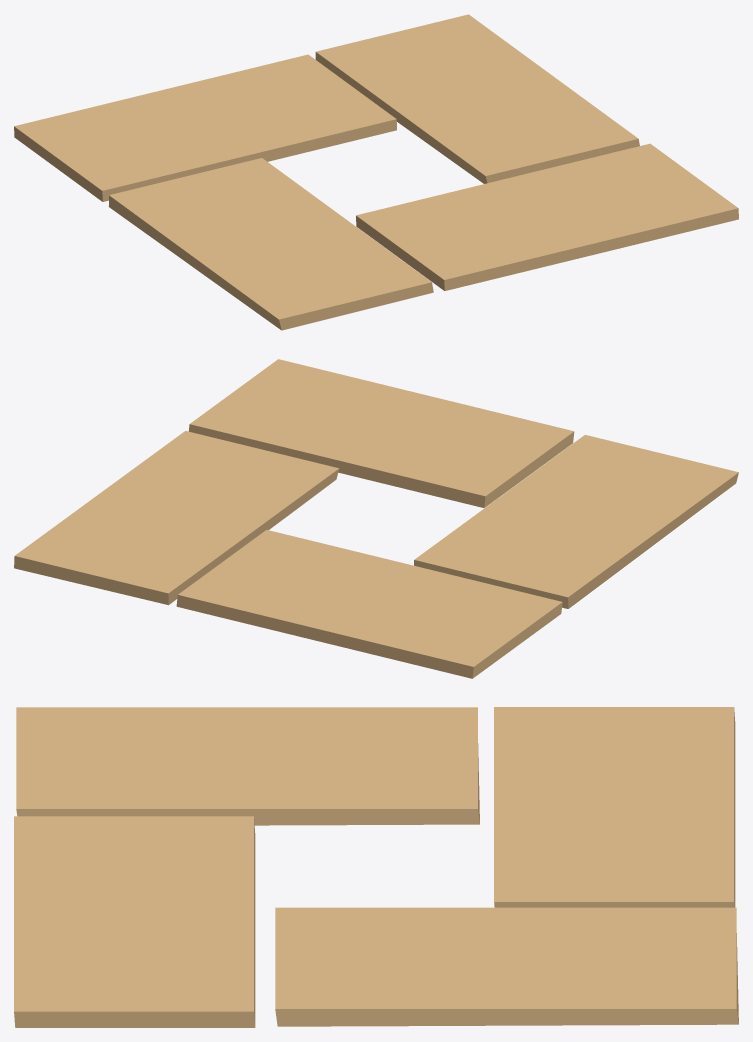
File: dalle5.fbx
3 views of the same model, one above another, from view 1: azimuth 30°, elevation 25°; view 2: azimuth 150°, elevation 25°; view 3: azimuth 270°, elevation 25° (orthographic). The views are drawn at different scales.
Parts seen in each view (by area): view 1: Cube.001, Cube.002, Cube.003, Cube.004; view 2: Cube.003, Cube.001, Cube.004, Cube.002; view 3: Cube.004, Cube.002, Cube.001, Cube.003.
Part boxes in pixels (bbox=[...]): Cube.001: bbox=[356, 143, 738, 290]; Cube.002: bbox=[108, 158, 433, 330]; Cube.003: bbox=[14, 54, 396, 201]; Cube.004: bbox=[315, 14, 639, 183]; Cube.003: bbox=[176, 530, 562, 678]; Cube.001: bbox=[188, 359, 574, 507]; Cube.004: bbox=[14, 431, 339, 605]; Cube.002: bbox=[414, 435, 738, 608]; Cube.004: bbox=[275, 907, 738, 1026]; Cube.002: bbox=[16, 707, 479, 825]; Cube.001: bbox=[14, 816, 255, 1027]; Cube.003: bbox=[494, 707, 735, 907].
Bounding box in the file's own units: 193 × 4.7 × 194.
